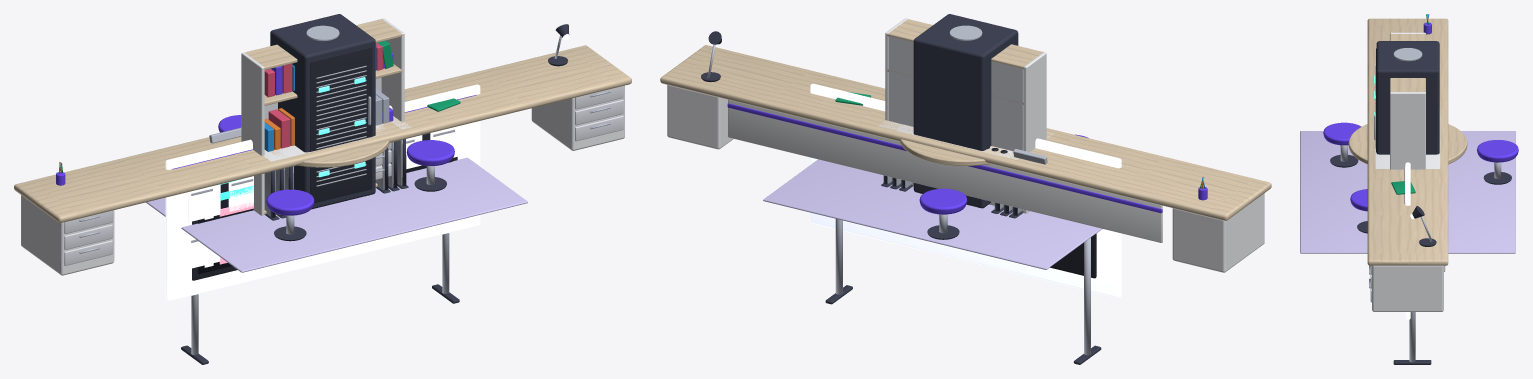
The model's file is furniture.glb.
3 renders of one model, left to right at view 1: azimuth 30°, elevation 25°; view 2: azimuth 150°, elevation 25°; view 3: azimuth 270°, elevation 25°, orthographic. The views are drawn at different scales.
Visible parts, largest first — view 1: lead_desk_Wood, meeting_table_Rug, server_rack_PlasticDark, server_rack_MetalDark, lead_desk_Laminate, routines_board_BoardFace, lead_desk_Trim, shelf_Laminate, routines_board_BoardFrame, meeting_table_Brand, server_rack_MetalLight, shelf_Wood (+9 smaller); view 2: lead_desk_Laminate, lead_desk_Wood, meeting_table_Rug, server_rack_MetalDark, routines_board_BoardFrame, shelf_Trim, shelf_Laminate, lead_desk_Brand, routines_Legs_MetalLight, shelf_Wood, meeting_table_Wood, meeting_table_Brand (+1 smaller); view 3: meeting_table_Rug, lead_desk_Wood, server_rack_MetalDark, lead_desk_Laminate, shelf_Laminate, meeting_table_Brand, meeting_table_Wood, shelf_Wood, meeting_table_MetalDark, server_rack_MetalLight, routines_Legs_MetalLight, routines_board_BoardFrame (+5 smaller).
Boxes of the visible parts, x1,y1,x2,y2 form: lead_desk_Wood: (14, 45, 631, 222); meeting_table_Rug: (146, 157, 527, 272); server_rack_PlasticDark: (310, 47, 372, 202); server_rack_MetalDark: (270, 14, 375, 209); lead_desk_Laminate: (21, 85, 624, 275); routines_board_BoardFace: (172, 91, 476, 296); lead_desk_Trim: (64, 86, 623, 265); shelf_Laminate: (241, 18, 404, 215); routines_board_BoardFrame: (165, 84, 480, 301); meeting_table_Brand: (218, 115, 454, 215); server_rack_MetalLight: (306, 25, 371, 186); shelf_Wood: (245, 19, 402, 214); lead_desk_Laminate: (667, 85, 1264, 272); lead_desk_Wood: (660, 45, 1271, 220); meeting_table_Rug: (763, 159, 1102, 269); server_rack_MetalDark: (913, 14, 1018, 208); routines_board_BoardFrame: (810, 83, 1121, 298); shelf_Trim: (888, 36, 1023, 211); shelf_Laminate: (885, 18, 1046, 213); lead_desk_Brand: (727, 103, 1207, 213); routines_Legs_MetalLight: (835, 219, 1090, 355); shelf_Wood: (887, 19, 1043, 212); meeting_table_Wood: (900, 139, 989, 165); meeting_table_Brand: (919, 134, 1088, 214); meeting_table_Rug: (1300, 131, 1515, 253); lead_desk_Wood: (1367, 18, 1448, 265); server_rack_MetalDark: (1376, 41, 1439, 154); lead_desk_Laminate: (1372, 265, 1445, 311); shelf_Laminate: (1390, 32, 1425, 169); meeting_table_Brand: (1323, 122, 1518, 211); meeting_table_Wood: (1348, 124, 1467, 164); shelf_Wood: (1390, 34, 1425, 92); meeting_table_MetalDark: (1330, 154, 1511, 233); server_rack_MetalLight: (1374, 48, 1422, 148); routines_Legs_MetalLight: (1409, 312, 1415, 362); routines_board_BoardFrame: (1405, 162, 1410, 319).
Size of the model in its own units: 6.4 by 3.15 by 2.43.
34 materials, 2 textured.
